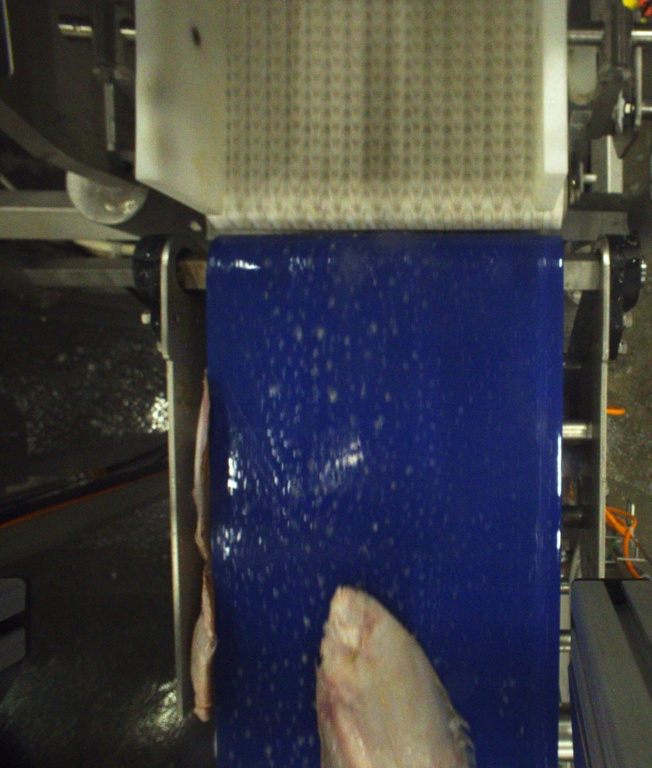WIT: (312, 585, 477, 768)
